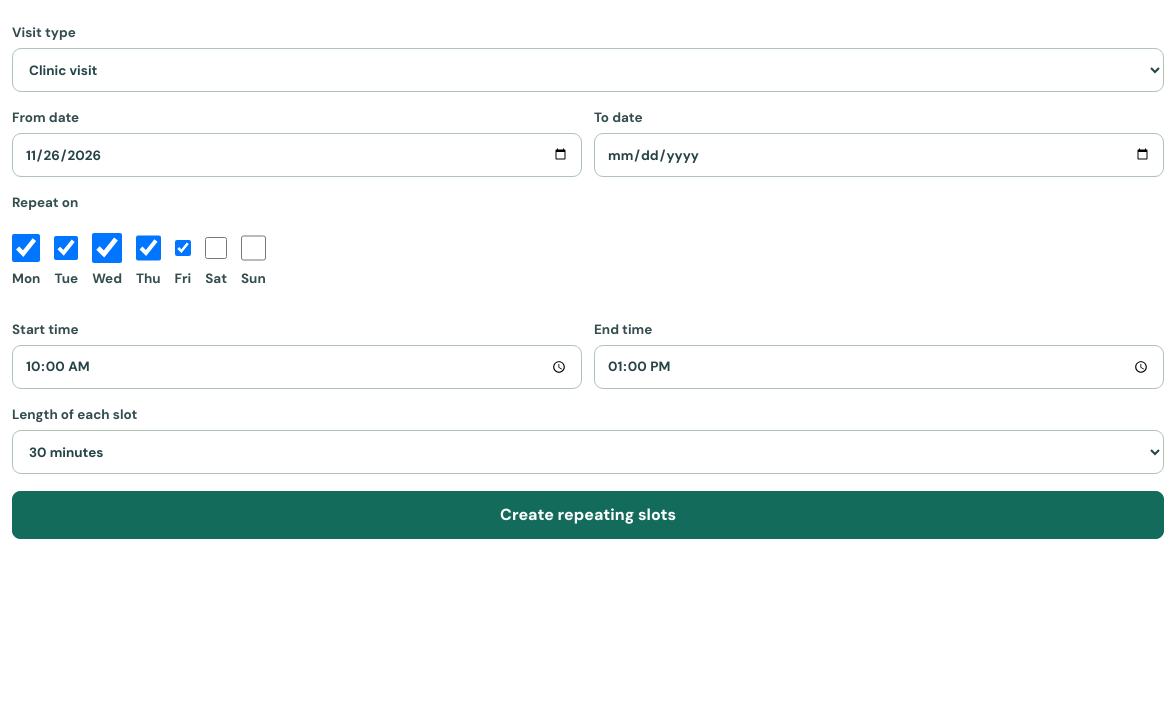
Test: BulkSlotForm › shows the server message when the schedule is rejected
Type "2099-01-10" into the date field labelled "To date" at (879, 155), box [594,133,1164,177]
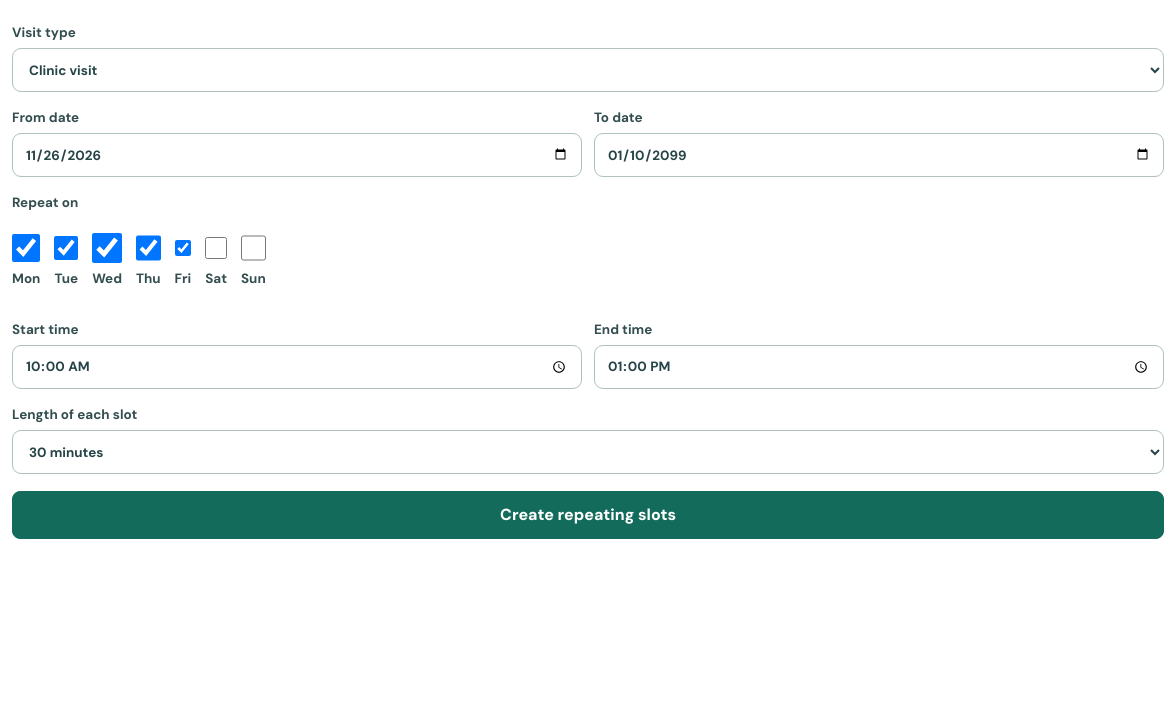
Click the button "Create repeating slots" at (588, 515), box [12,491,1164,539]
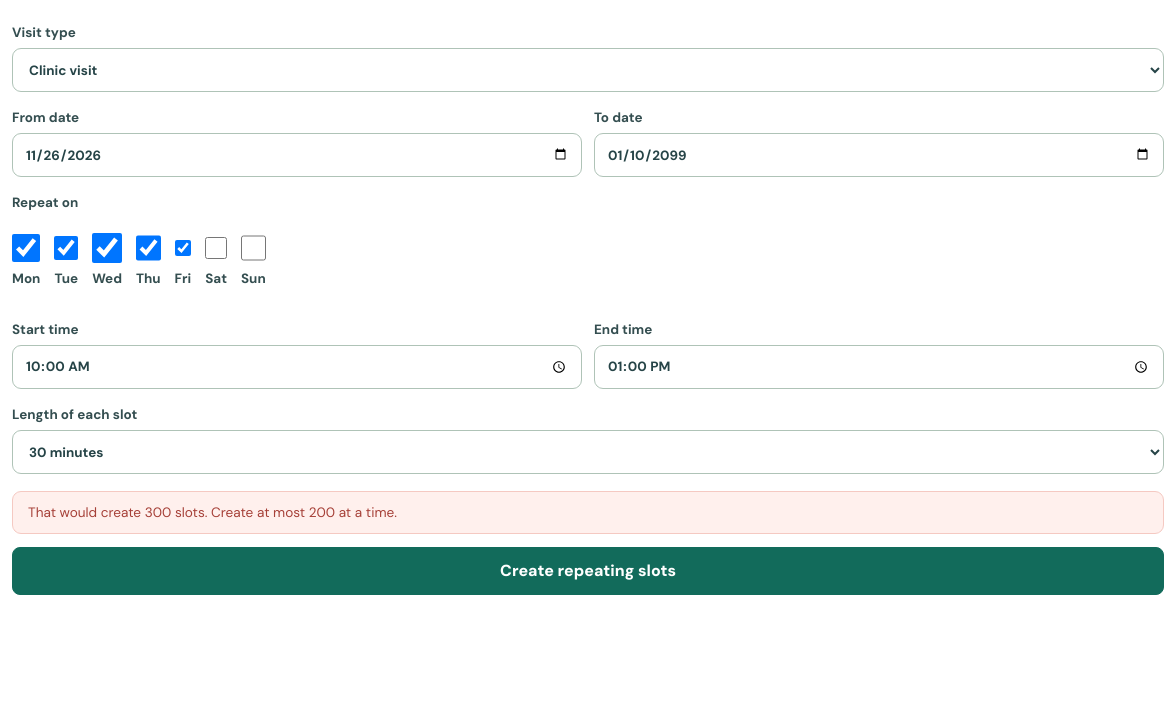
Expected: the text "That would create 300 slots. Create at most 200 at a time." is shown, [12,491,1164,534]
